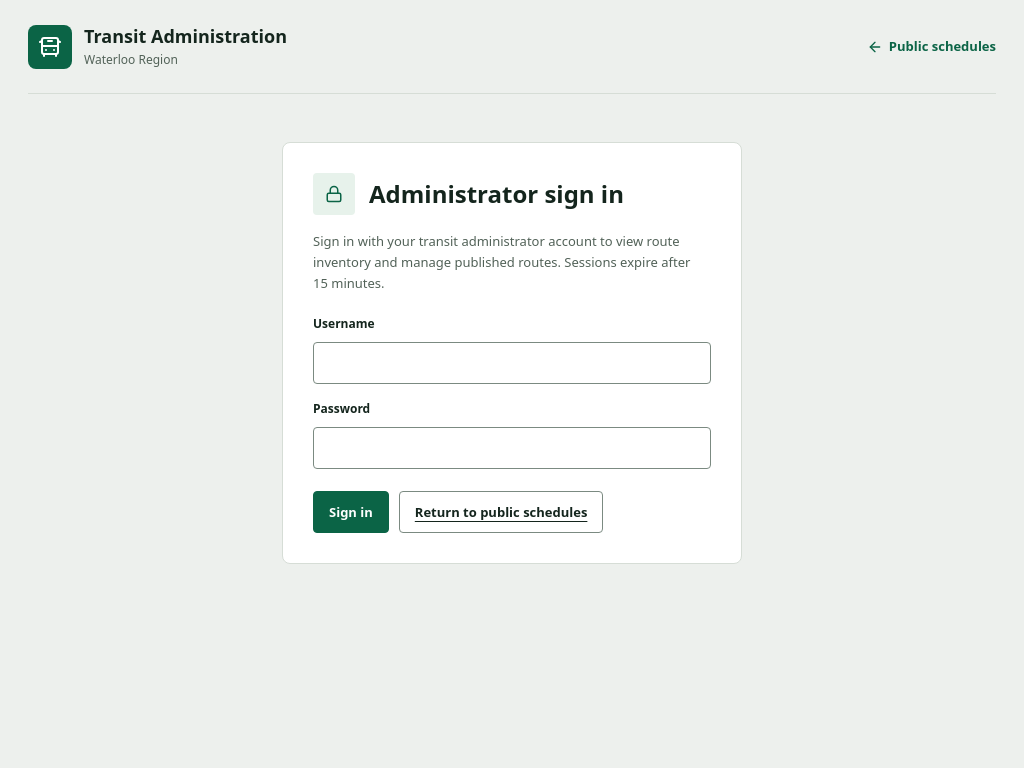
Test case: routes a signed-in normal user to the unauthorized page
In the field labelled "Username": (512, 363) [313,342,711,384], type "transit.user"
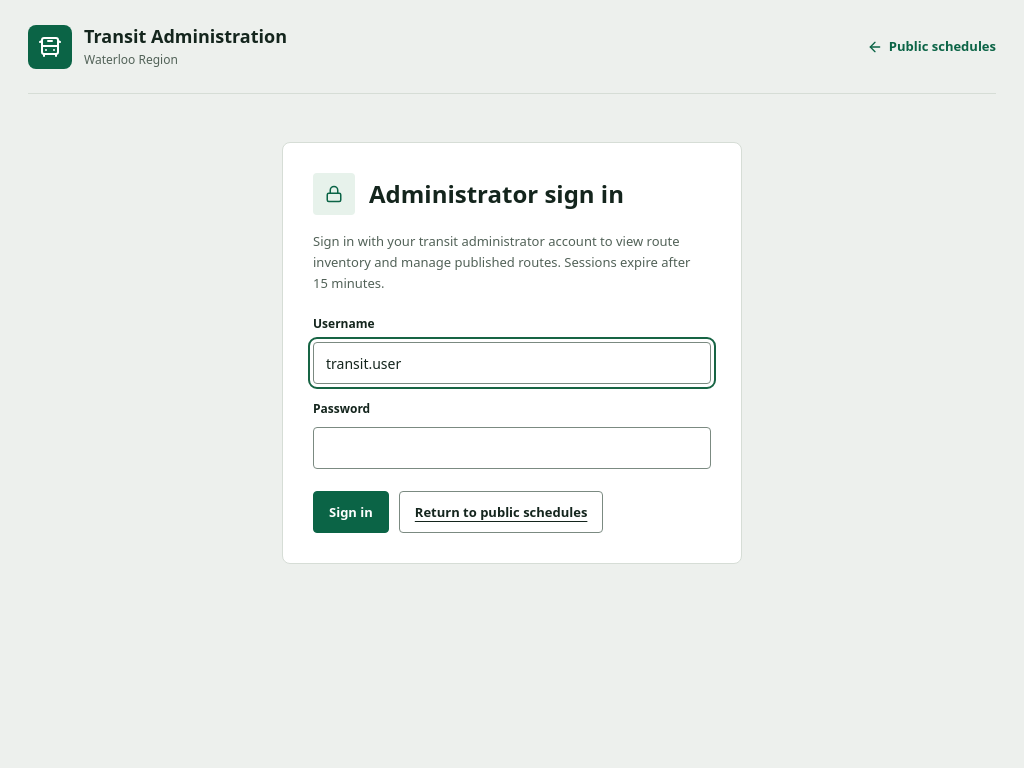
In the password field labelled "Password": (512, 448) [313,427,711,469], type "user-pw"
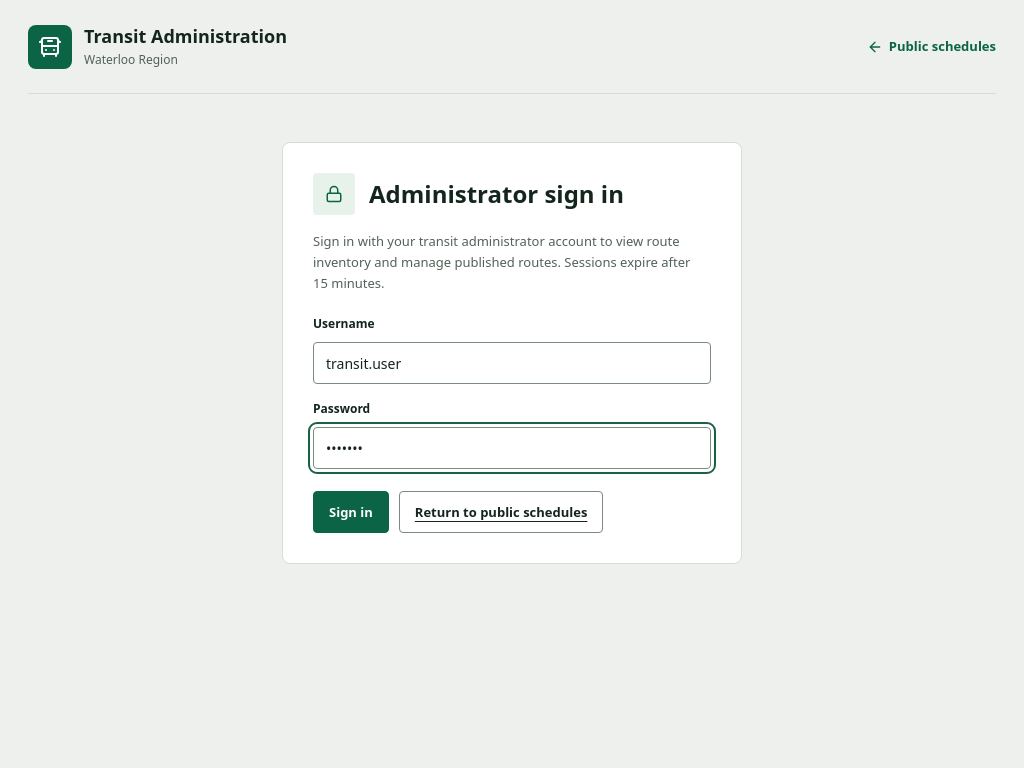
Click the button "Sign in": (351, 512) [313,491,389,533]
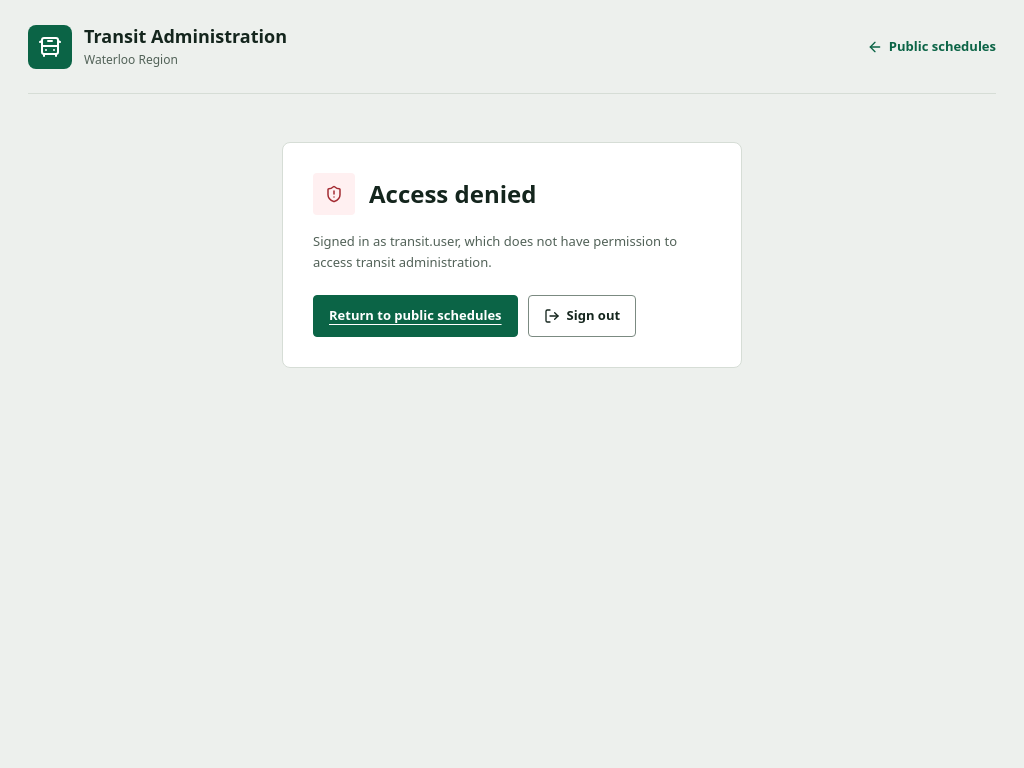
Now the heading "Access denied" is shown, box [369,179,536,209]
Now the text "transit.user" is shown, box [313,232,677,271]
